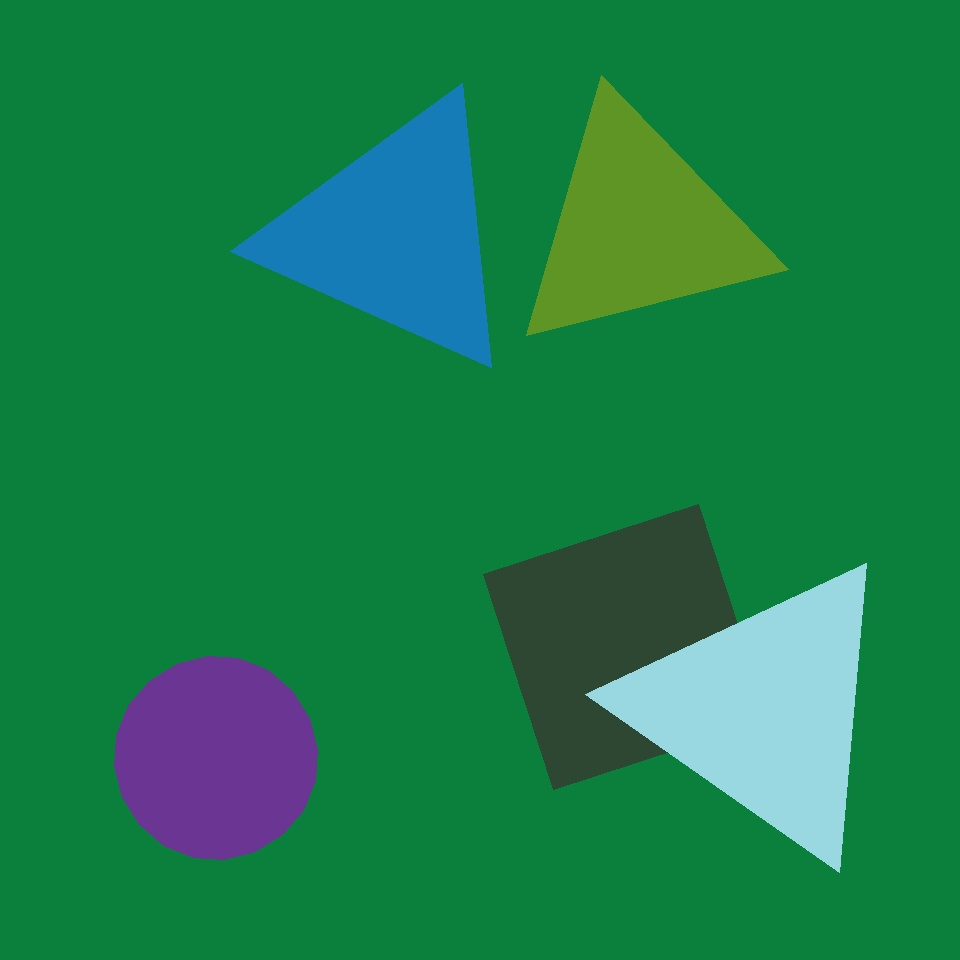circle: (624, 556, 904, 865), (264, 92, 526, 376), (385, 398, 648, 661), (508, 97, 770, 357), (82, 518, 245, 687), (464, 160, 615, 316), (469, 188, 602, 307)
square: (484, 504, 768, 790), (402, 141, 654, 393)
triangle: (114, 656, 318, 860), (626, 240, 806, 420)
